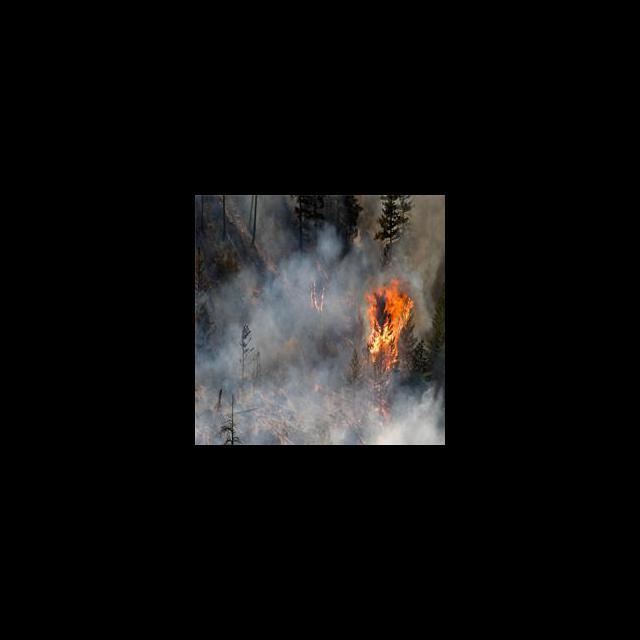Fire: (361, 280, 415, 372)
Smoke: (200, 222, 358, 445), (358, 374, 444, 444)
